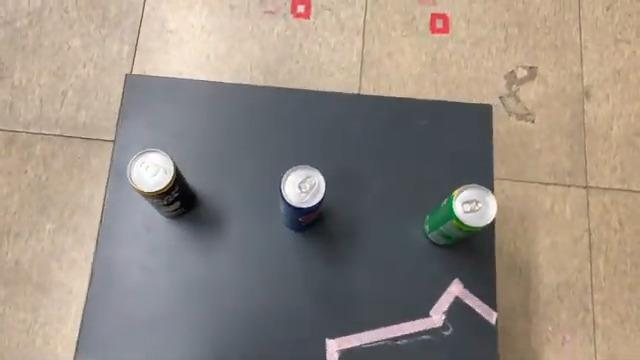OranSoda: (126, 144, 202, 224)
Pepsi: (276, 162, 330, 238)
Sprite: (420, 182, 500, 250)
